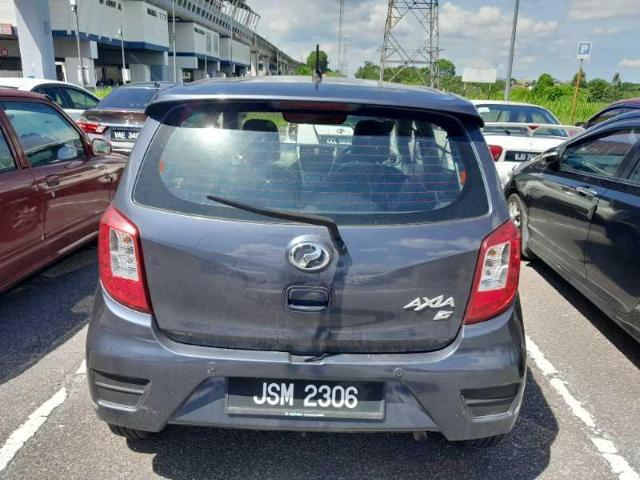License_Plate: (225, 377, 388, 421)
car: (85, 75, 529, 447)
